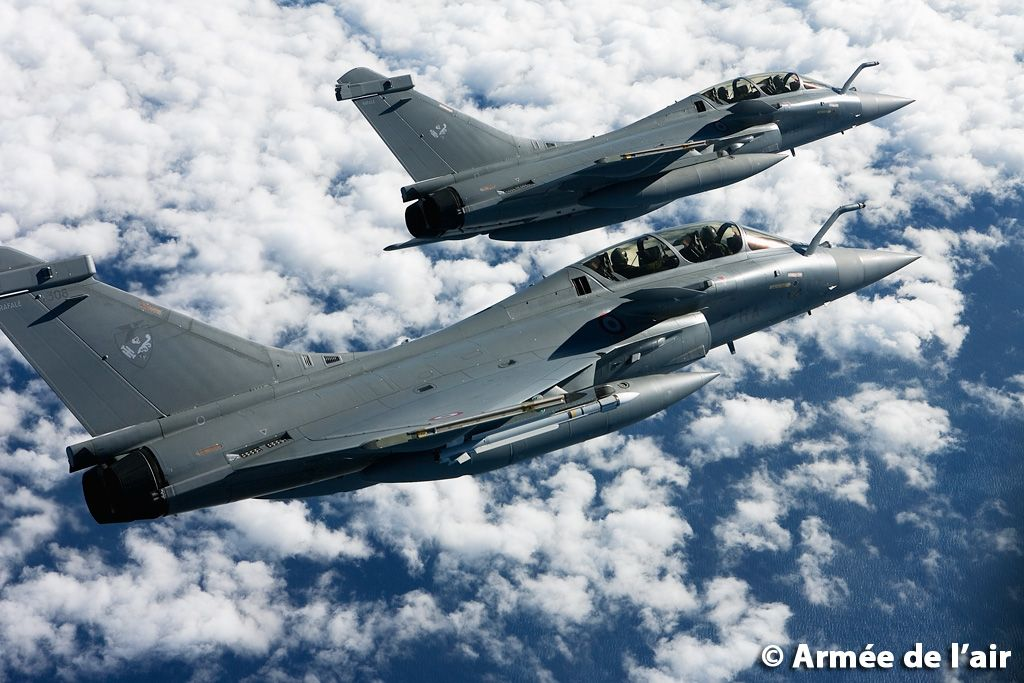Aeronef_militaire: (1, 194, 925, 536), (313, 49, 944, 252)
